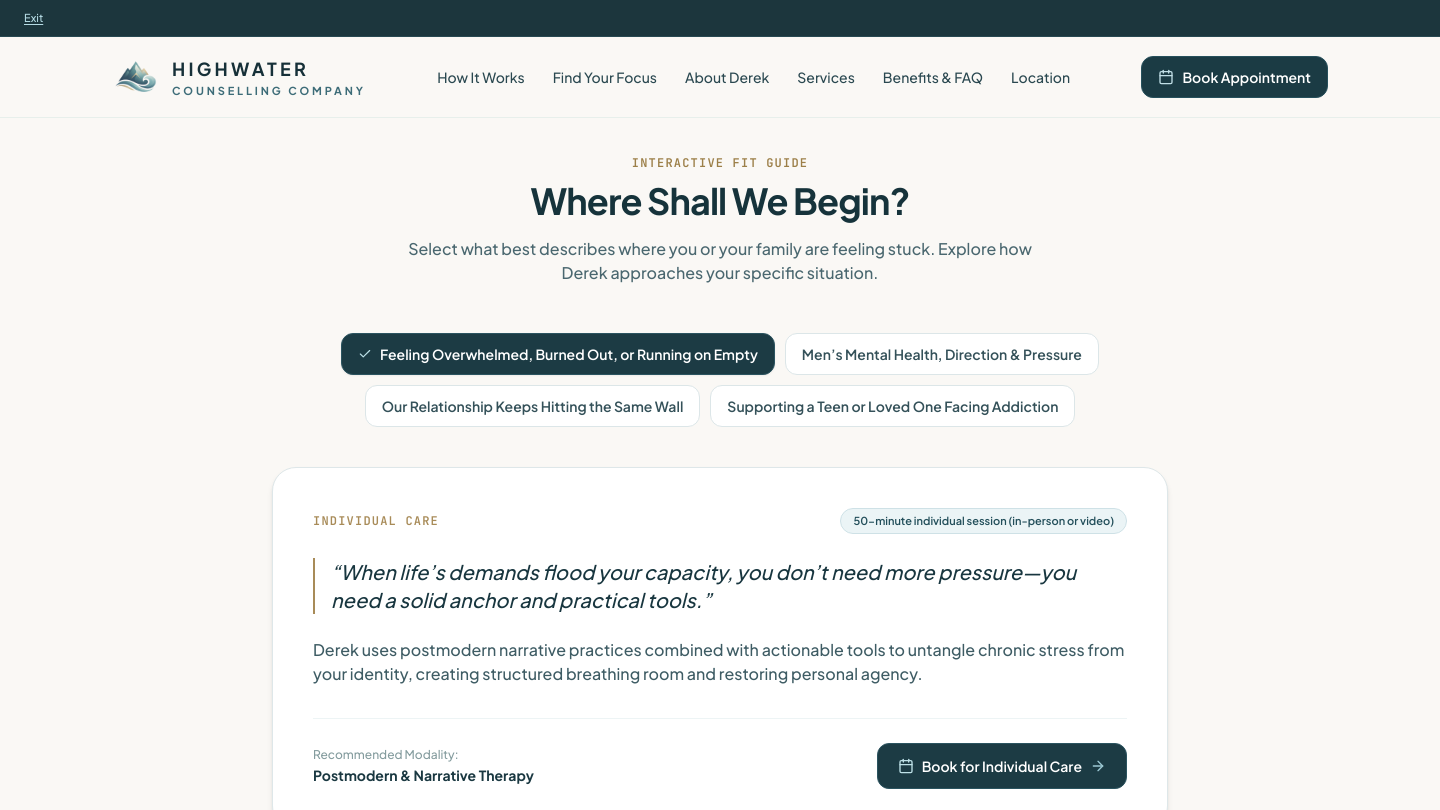
it: HighwaterDraftV2 Component › interactively updates the situation selector when clicking a filter button
(page scrolled)
Expected: the text "When life’s demands flood your capacity" is shown, [331,559,1076,612]
// Click "Our Relationship Keeps Hitting the Same Wall"
Click the button "Our Relationship Keeps Hitting the Same Wall": (532, 406) [365,384,700,426]
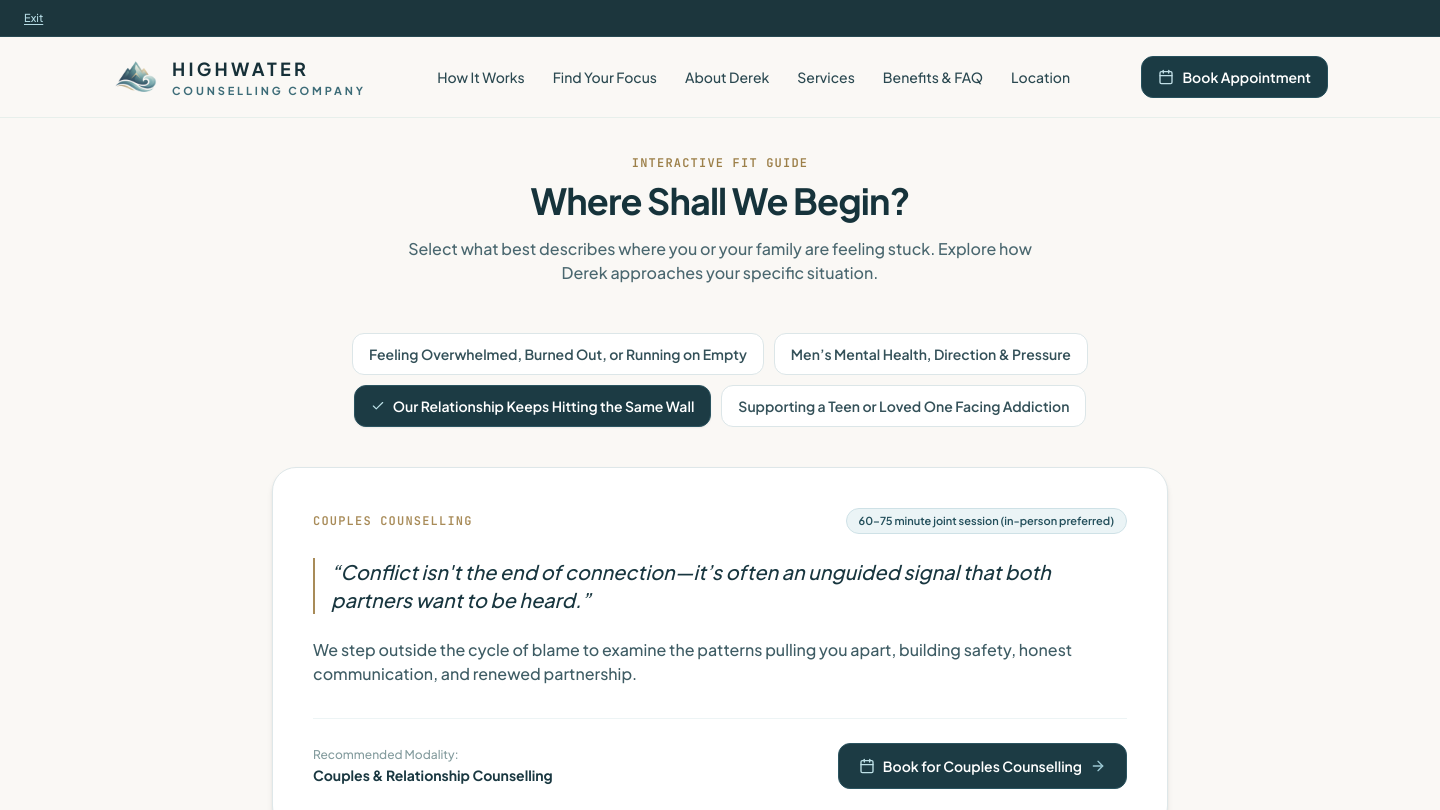
Now the text "Conflict isn't the end of connection" is shown, box [331,559,1051,612]
